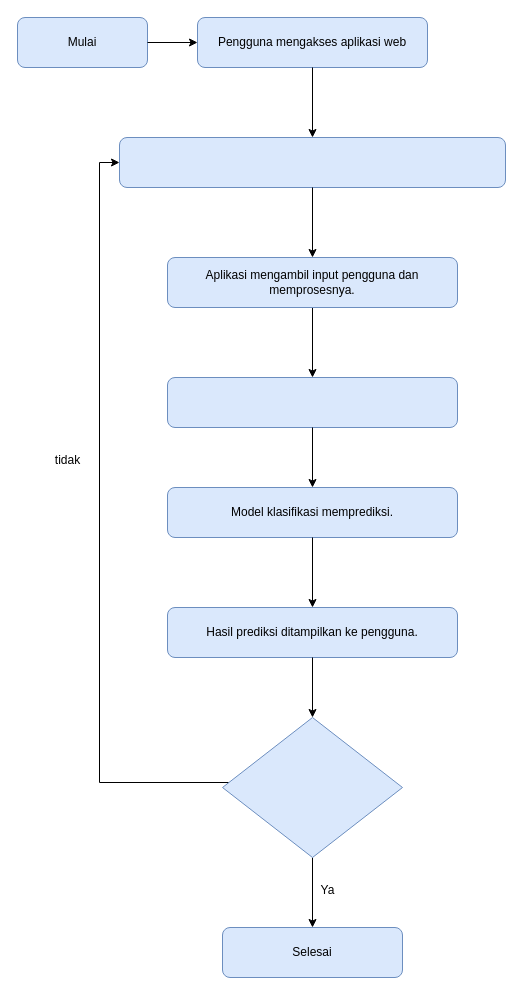
The diagram is 523 pixels wide and 995 high, and some of its shapes have lost their labels. The centre of each missing label's shape, as x and y in pixels:
"Melakukan one-hot encoding untuk fitur kategorikal" belongs at point 312,402.
"Memasukkan detail gitar lain atau keluar?" belongs at point 312,787.
"Pengguna memasukkan detail gitar (seperti merek, tipe, dan warna)" belongs at point 312,162.
